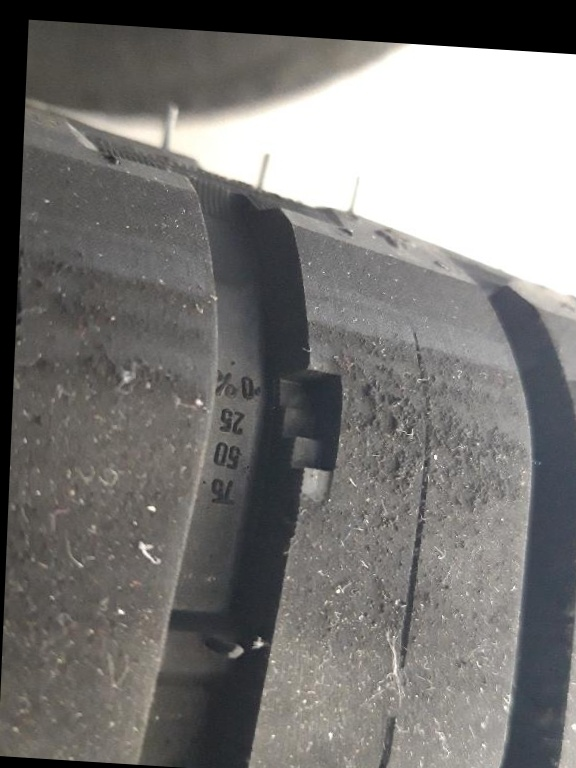temoin:75: (254, 357, 357, 516)
